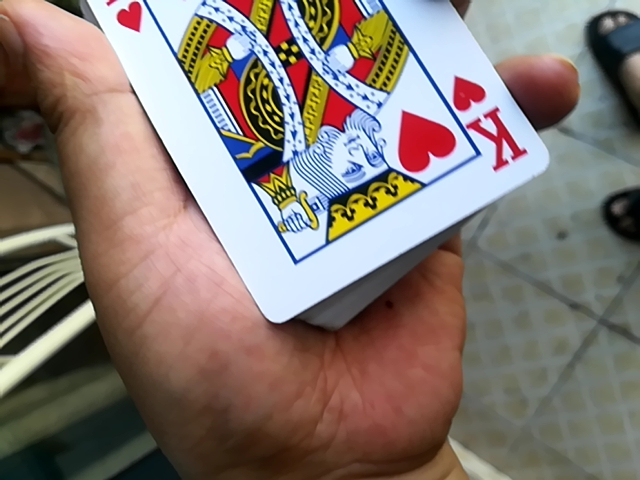hx k: (58, 6, 542, 318)
